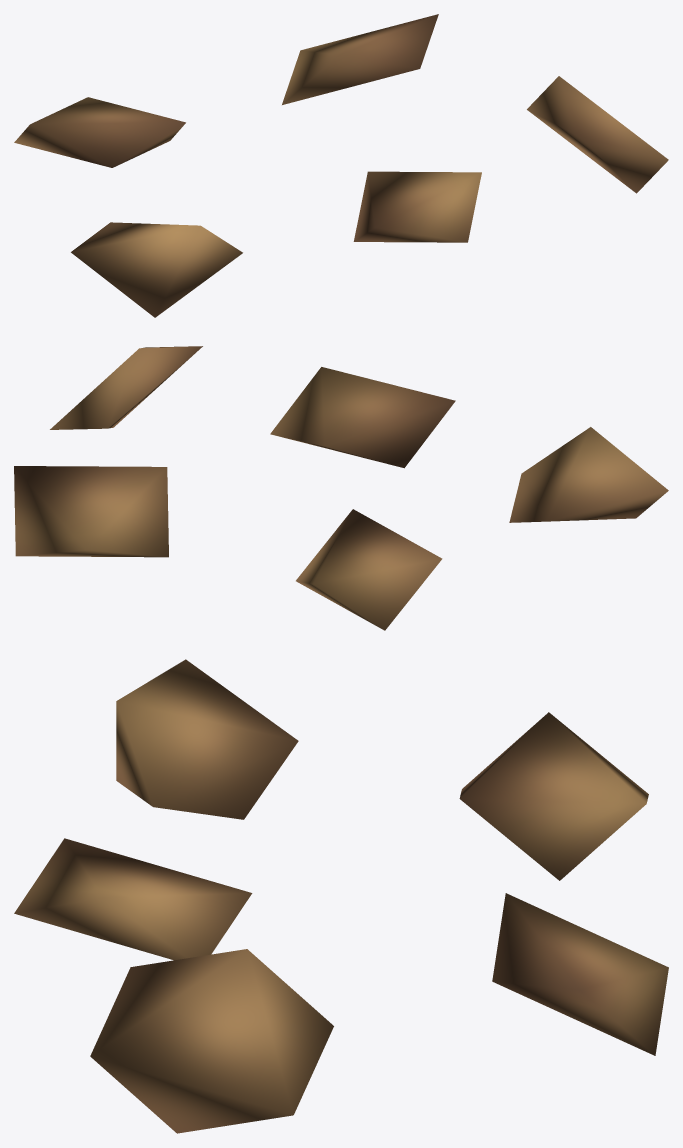
The model's file is NP_WaterSpinach_Seed_LOD1.fbx.
3 views of the same model, one above another, from view 1: azimuth 30°, elevation 25°; view 2: azimuth 150°, elevation 25°; view 3: azimuth 270°, elevation 25° (orthographic). The views are drawn at different scales.
Parts seen in each view (by area): view 1: NP_WaterSpinach_Seed; view 2: NP_WaterSpinach_Seed; view 3: NP_WaterSpinach_Seed.
Part boxes in pixels (left/top/right/bottom): NP_WaterSpinach_Seed: left=14, top=14, right=668, bottom=317; NP_WaterSpinach_Seed: left=14, top=346, right=668, bottom=630; NP_WaterSpinach_Seed: left=14, top=659, right=668, bottom=1133.
Size of the model in its own units: 17.32 by 3.16 by 12.44.
